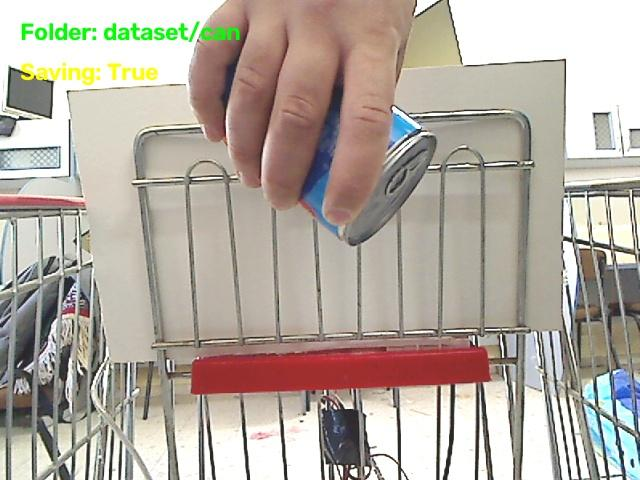can: (299, 89, 435, 245)
